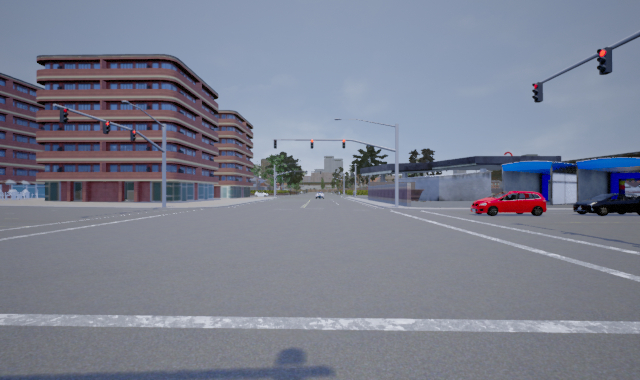traffic_light: (596, 47, 612, 75), (531, 80, 544, 103), (60, 106, 69, 125), (102, 117, 111, 136), (129, 126, 137, 144), (341, 137, 347, 149), (310, 139, 316, 150)
vehicle: (469, 191, 552, 216), (573, 193, 639, 216), (314, 191, 326, 200)
